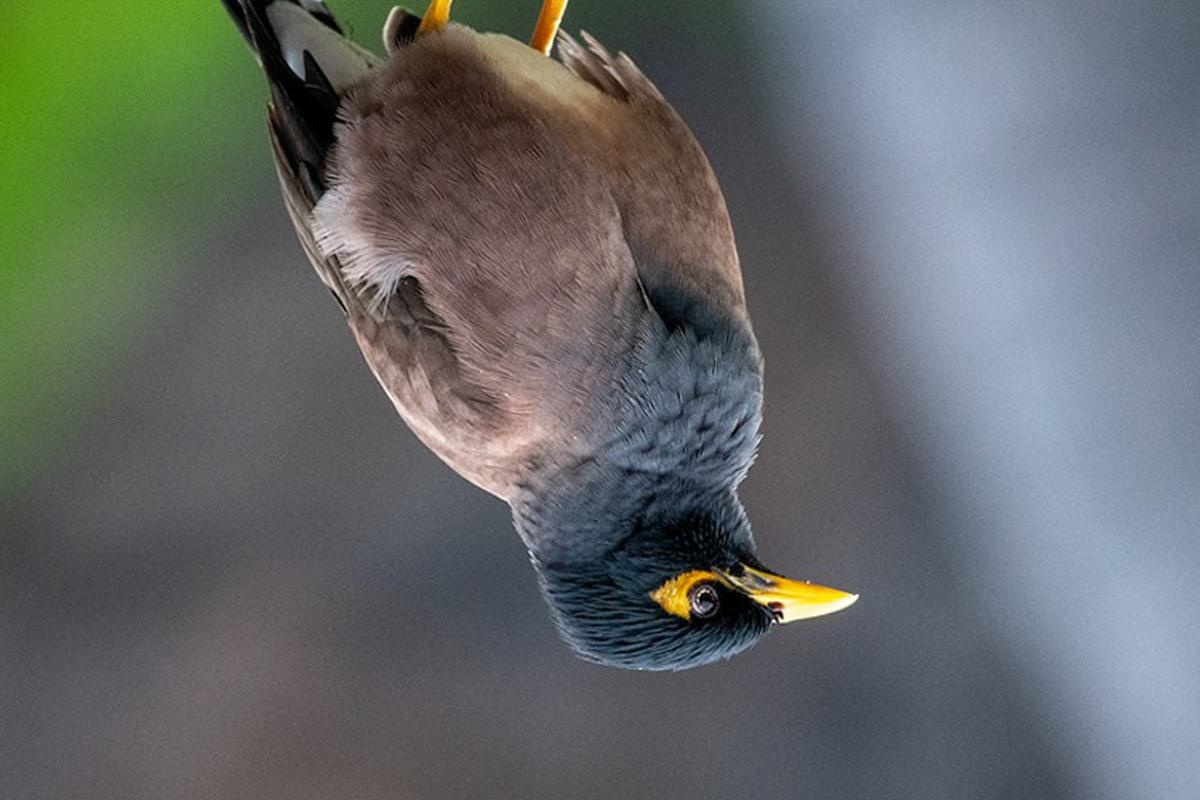myna: (263, 1, 880, 666)
